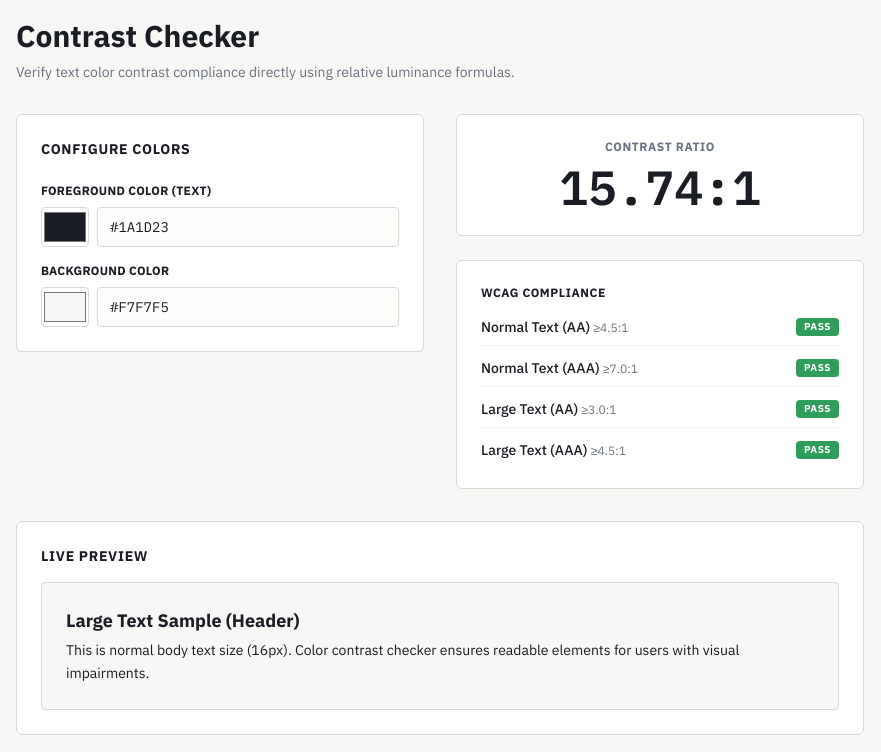
Test: ContrastCheckerPage › renders picker elements and updates values
Expected: the heading "Contrast Checker" is shown, [16, 16, 259, 55]
Expected: the heading "WCAG Compliance" is shown, [481, 285, 606, 300]
Type "#000000" into the field labelled "Foreground Color (Text)".
click(248, 227); type("#000000")  # box [97, 207, 399, 247]
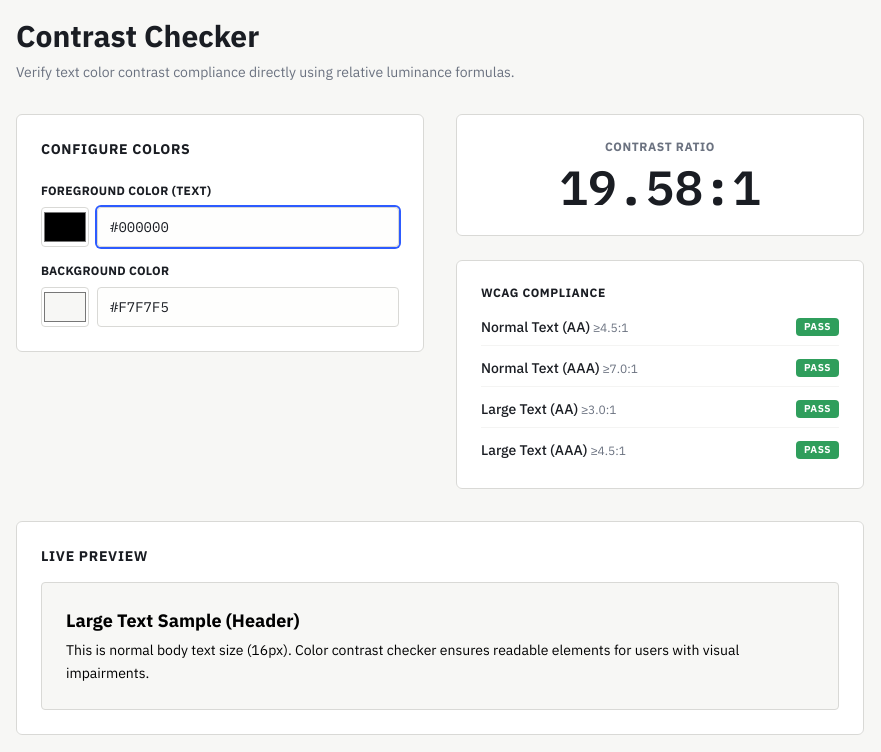
Type "#ffffff" into the field labelled "Background Color".
click(248, 307); type("#ffffff")  # box [97, 287, 399, 327]
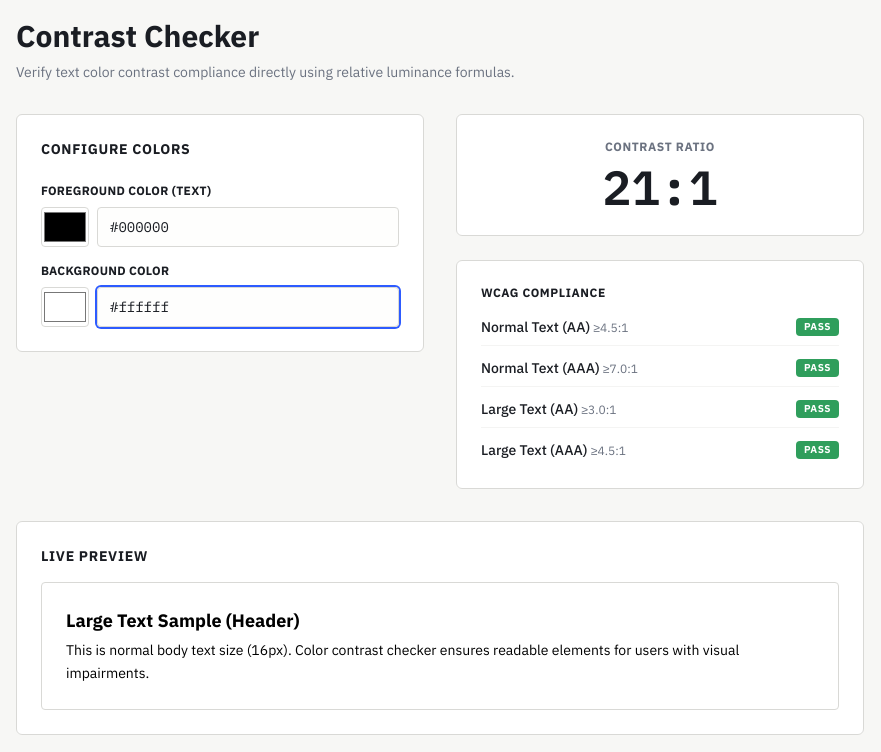
Expected: the text "21:1" is shown, [602, 156, 718, 218]
